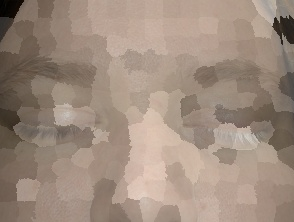vitiligo: (210, 121, 280, 153)
